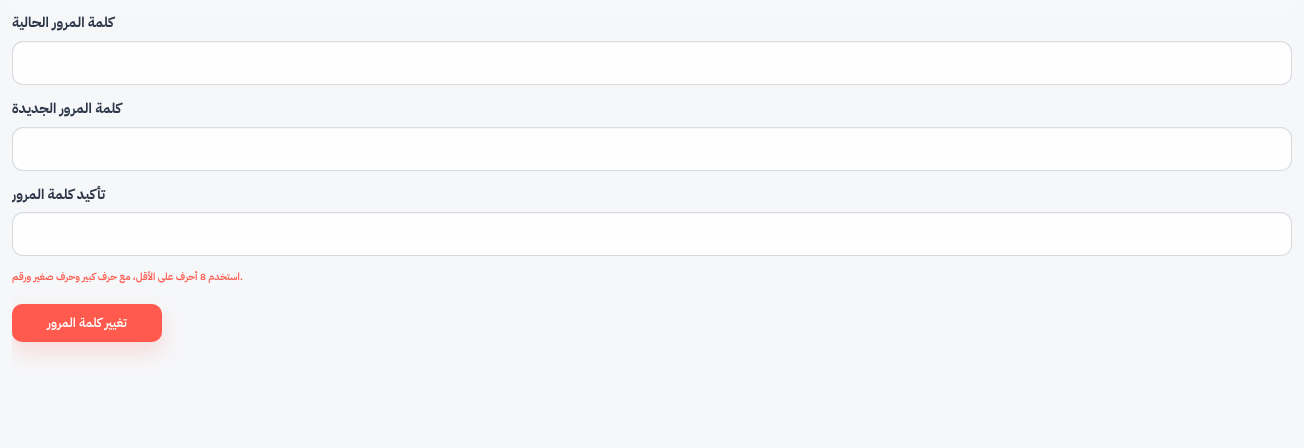
Test: ChangePasswordForm › changes an established account password from the Arabic account screen
Type "CurrentPass123" into the password field labelled "كلمة المرور الحالية" at (652, 63), box [12,41,1292,85]
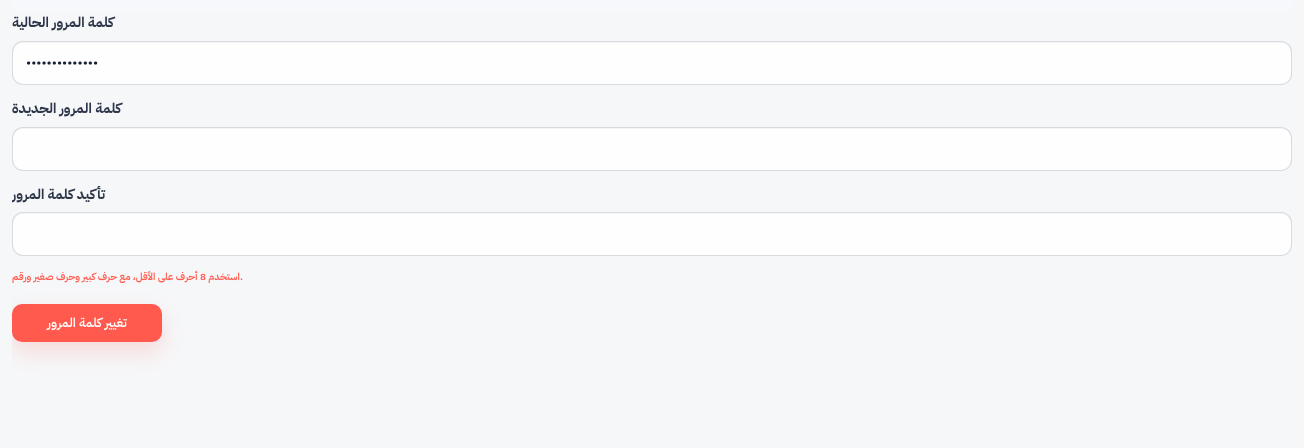
Type "UpdatedPass456" into the password field labelled "كلمة المرور الجديدة" at (652, 149), box [12,126,1292,171]
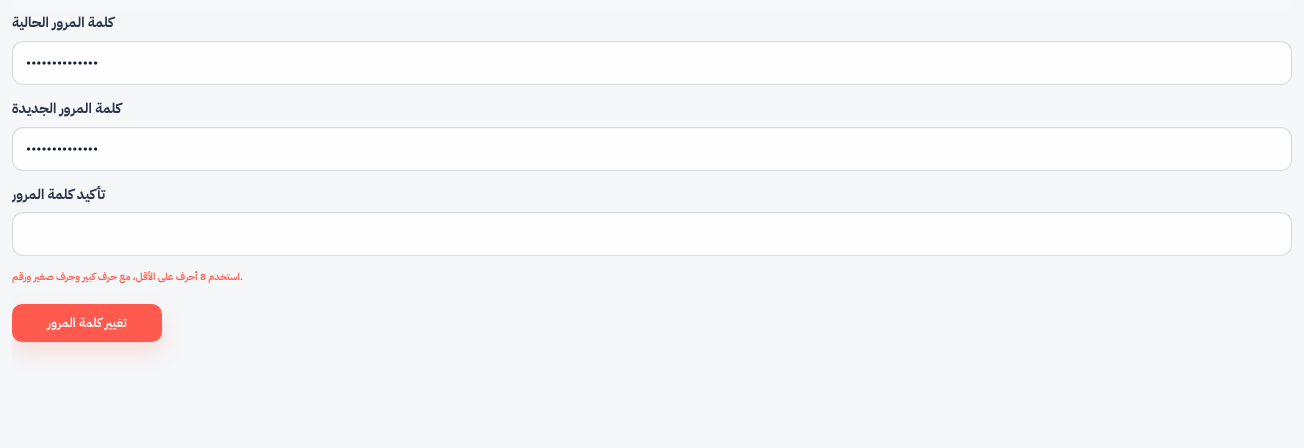
Type "UpdatedPass456" into the password field labelled "تأكيد كلمة المرور" at (652, 234), box [12,212,1292,256]
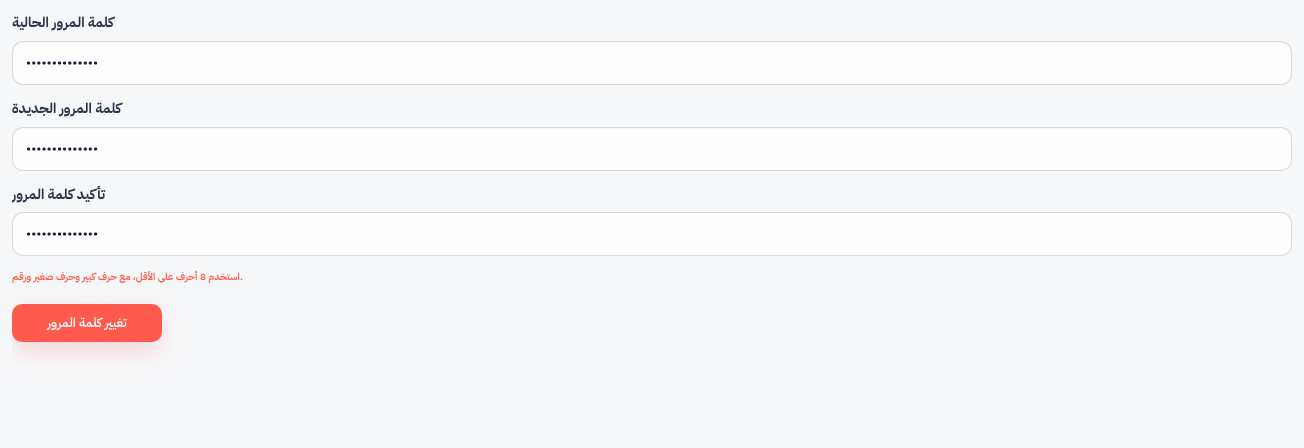
Click the button "تغيير كلمة المرور" at (87, 323), box [12,304,162,342]
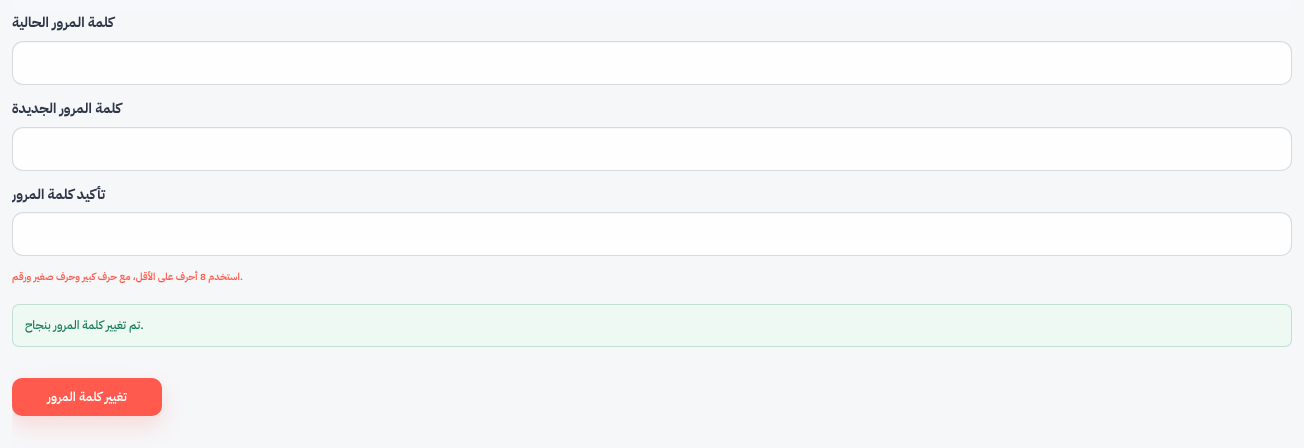
Check: the message reads "تم تغيير كلمة المرور بنجاح.", box [25,316,144,334]
